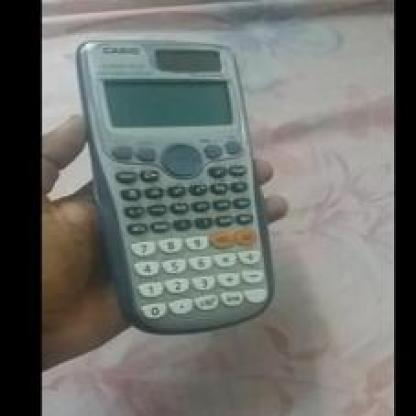calculator: (74, 40, 271, 329)
